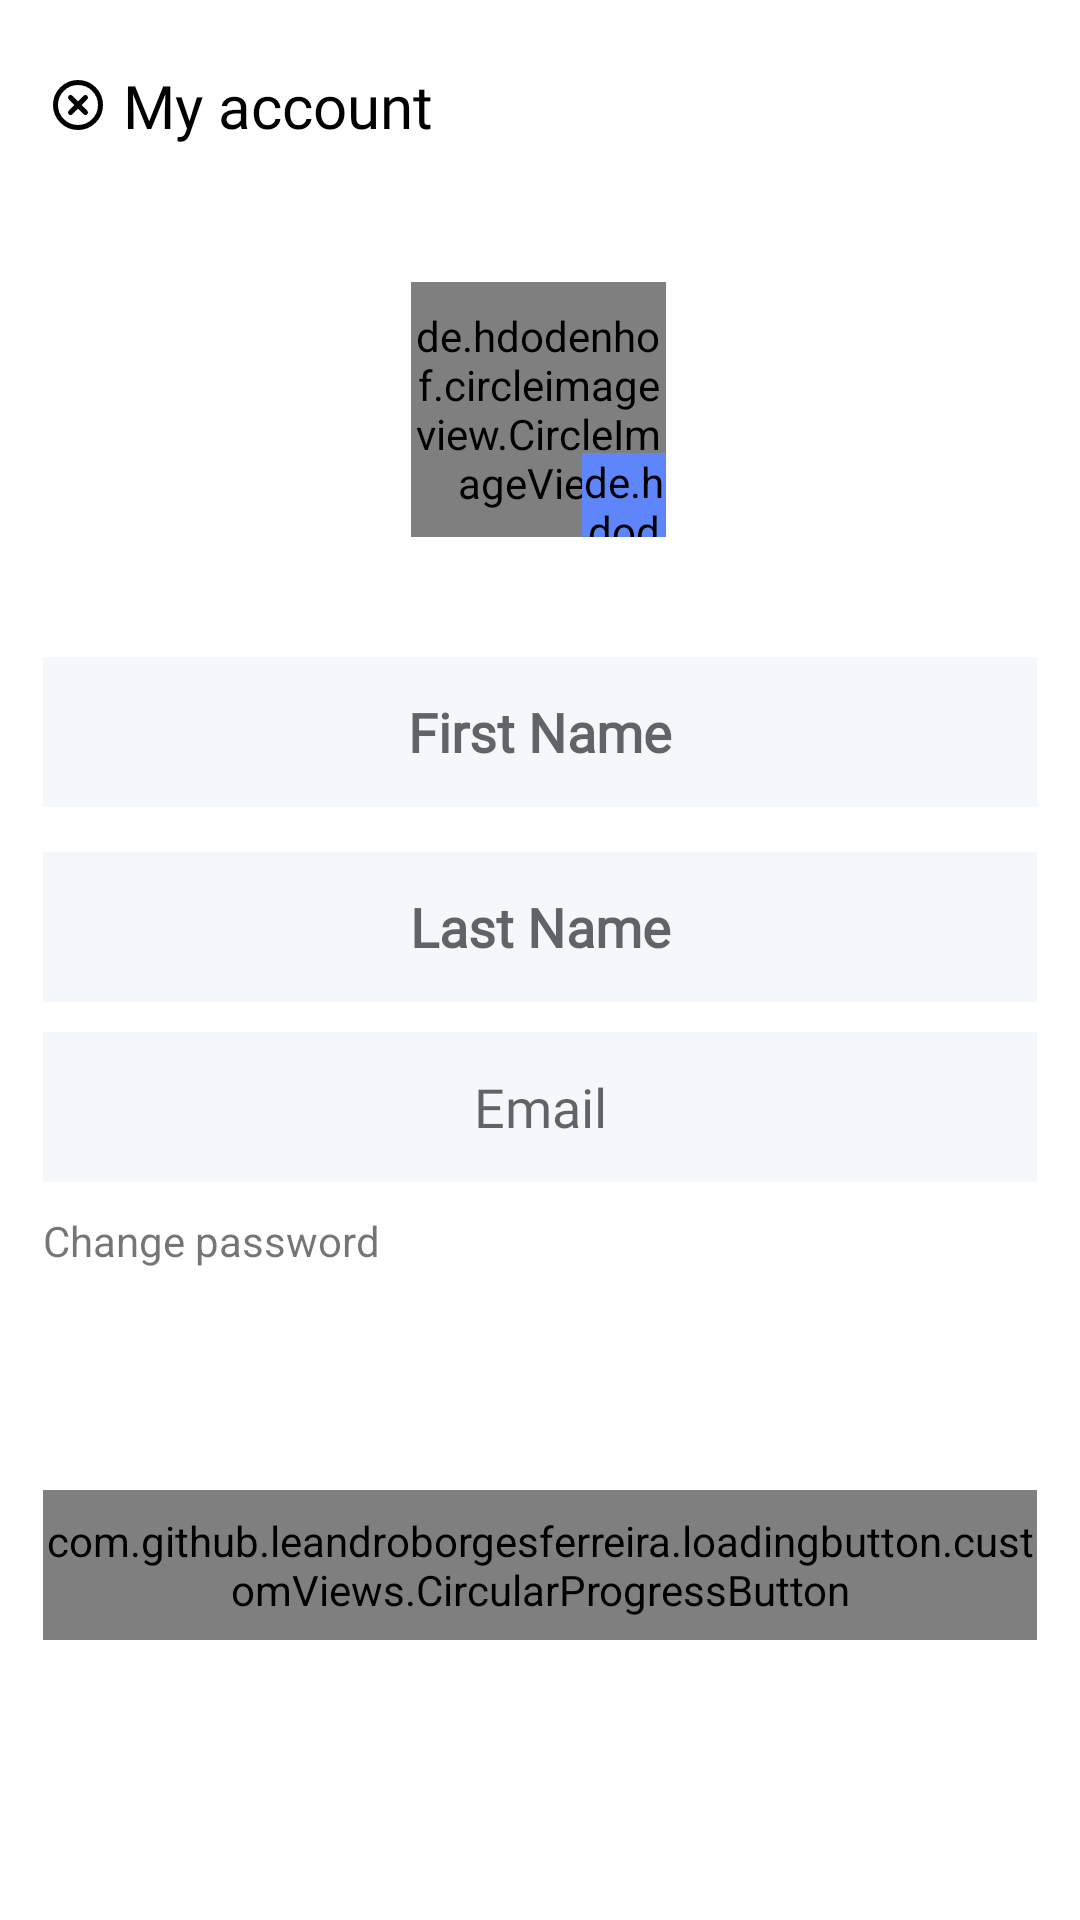

Icon bounding boxes for this 1080 x 1920 phone screenshot, format BBox(x1, y1, x2, y2):
close: BBox(53, 80, 103, 130)
